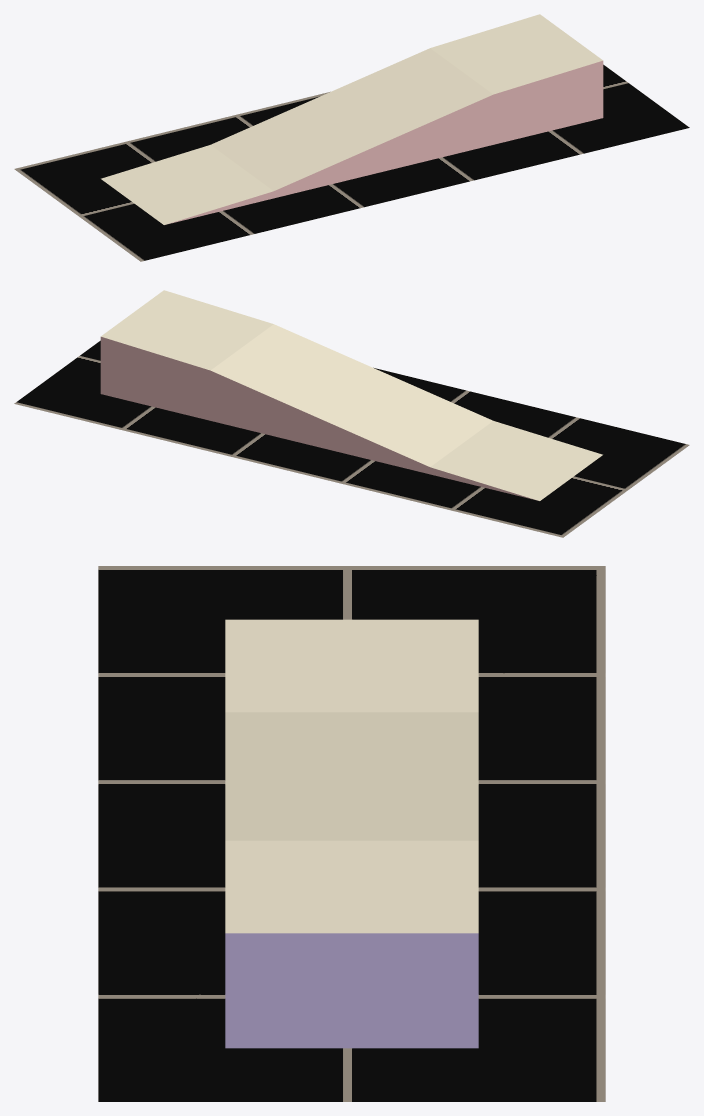
Rendered from Terrain_Sand_Incline_Straight_1x4.glb.
3 renders of one model, top to bottom at view 1: azimuth 30°, elevation 25°; view 2: azimuth 150°, elevation 25°; view 3: azimuth 270°, elevation 25°, orthographic. The views are drawn at different scales.
Parts seen in each view (by area): view 1: Terrain_Sand_Incline_Straight_1x4, Floor; view 2: Terrain_Sand_Incline_Straight_1x4, Floor; view 3: Floor, Terrain_Sand_Incline_Straight_1x4.
Part boxes in pixels (left/top/right/bottom): Terrain_Sand_Incline_Straight_1x4: left=101, top=14, right=603, bottom=224; Floor: left=14, top=64, right=689, bottom=261; Terrain_Sand_Incline_Straight_1x4: left=100, top=290, right=602, bottom=500; Floor: left=14, top=340, right=689, bottom=537; Floor: left=98, top=566, right=605, bottom=1101; Terrain_Sand_Incline_Straight_1x4: left=225, top=619, right=478, bottom=1048.
Size of the model in its own units: 500 by 50 by 200.
5 materials, 1 textured.
